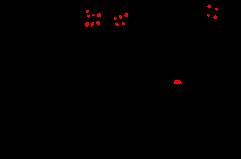Target: (174, 80, 182, 84), (85, 22, 89, 27), (97, 13, 101, 17), (124, 13, 128, 17), (213, 15, 217, 19), (96, 21, 100, 25), (91, 22, 94, 27), (207, 5, 211, 8), (119, 15, 122, 19), (115, 23, 119, 26), (215, 8, 218, 11), (86, 10, 89, 13), (207, 14, 210, 17), (87, 15, 90, 18), (114, 17, 117, 20), (122, 22, 125, 25), (92, 14, 95, 16)
